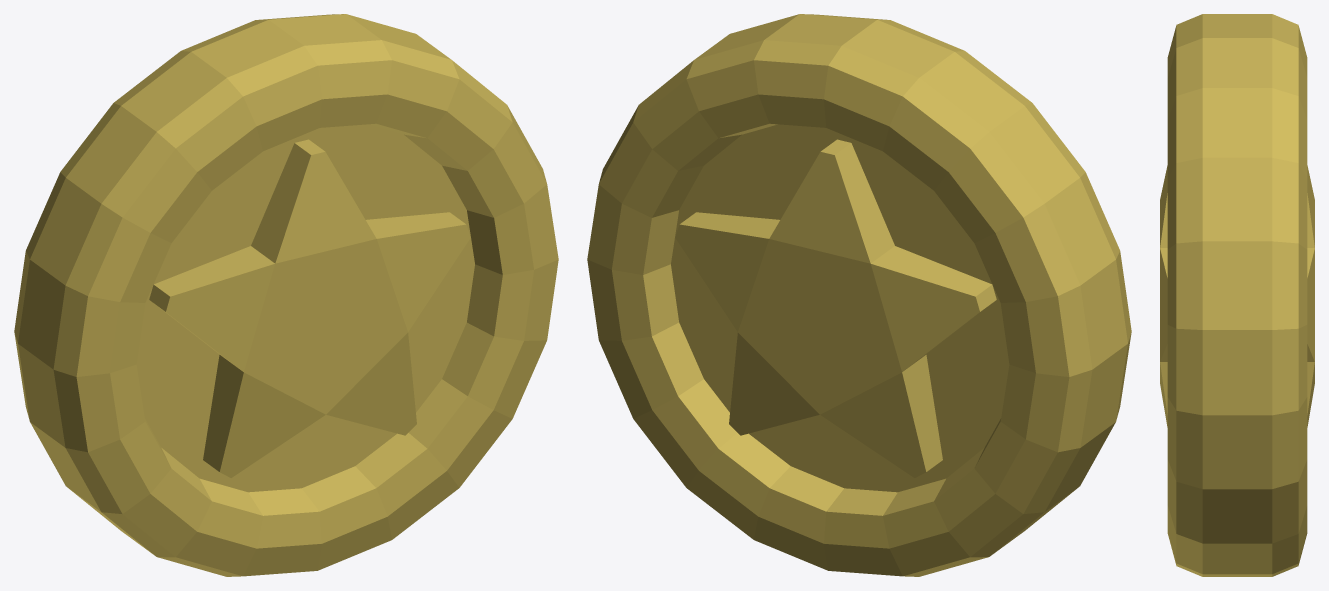
Rendered from Coin_Star.glb.
3 views of the same model, side by side, from view 1: azimuth 30°, elevation 25°; view 2: azimuth 150°, elevation 25°; view 3: azimuth 270°, elevation 25° (orthographic). The views are drawn at different scales.
Visible parts, largest first — view 1: Coin_Star; view 2: Coin_Star; view 3: Coin_Star.
Boxes of the visible parts, x1,y1,x2,y2 form: Coin_Star: (14, 14, 558, 576); Coin_Star: (587, 14, 1131, 576); Coin_Star: (1160, 14, 1314, 576).
Bounding box in the file's own units: 0.7367 × 0.7377 × 0.2011.
